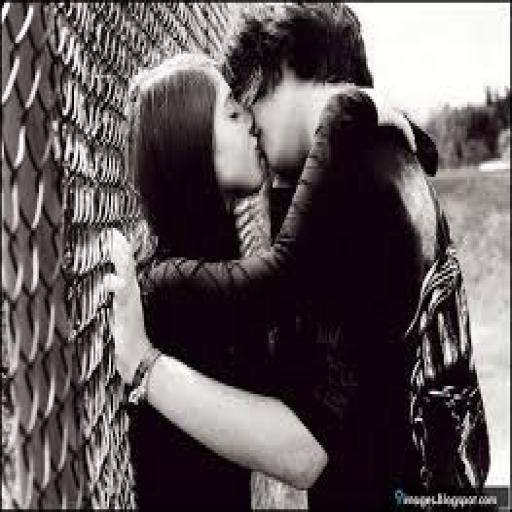hugging: (101, 3, 493, 509)
